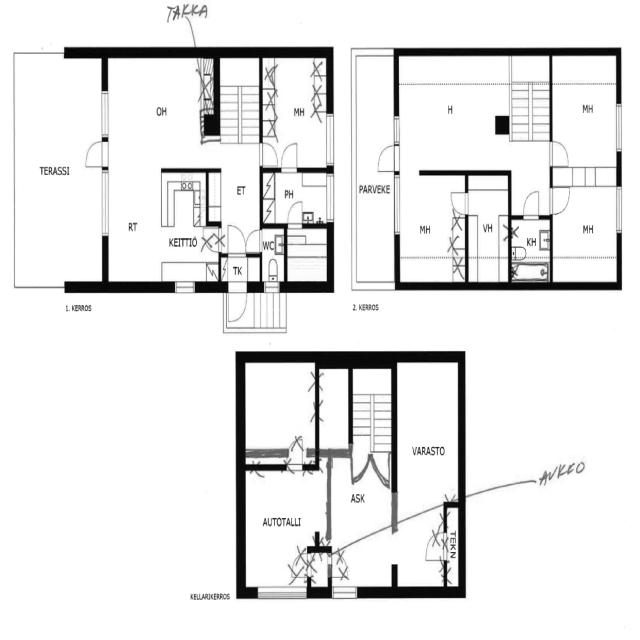door: (262, 168, 330, 227), (276, 190, 314, 224), (348, 441, 371, 486), (80, 136, 110, 170), (285, 434, 309, 476), (226, 284, 250, 324), (328, 545, 352, 585), (278, 138, 302, 173), (224, 222, 248, 256), (548, 136, 572, 170), (549, 183, 572, 218), (375, 142, 400, 172), (521, 187, 541, 220), (257, 139, 279, 168), (449, 188, 470, 218), (286, 197, 304, 228), (245, 227, 263, 252), (262, 280, 282, 297)
window: (250, 580, 308, 602), (98, 167, 112, 242), (323, 109, 336, 169), (98, 86, 111, 140), (392, 168, 402, 238), (613, 181, 625, 239), (328, 583, 362, 603), (613, 100, 625, 155), (324, 167, 335, 224), (170, 278, 200, 295), (260, 279, 282, 297), (392, 112, 402, 145)
zone: (396, 54, 552, 178), (107, 164, 219, 287), (105, 54, 215, 168), (242, 464, 331, 586), (394, 359, 462, 504), (550, 53, 620, 185), (329, 460, 394, 590), (260, 54, 330, 171), (242, 359, 317, 464), (215, 51, 261, 218), (396, 172, 465, 282), (552, 185, 620, 288), (466, 170, 509, 285), (396, 502, 452, 586), (350, 362, 396, 451), (262, 167, 331, 224), (317, 364, 352, 456), (509, 215, 552, 282), (286, 224, 330, 282), (261, 222, 286, 286), (444, 504, 462, 590)
